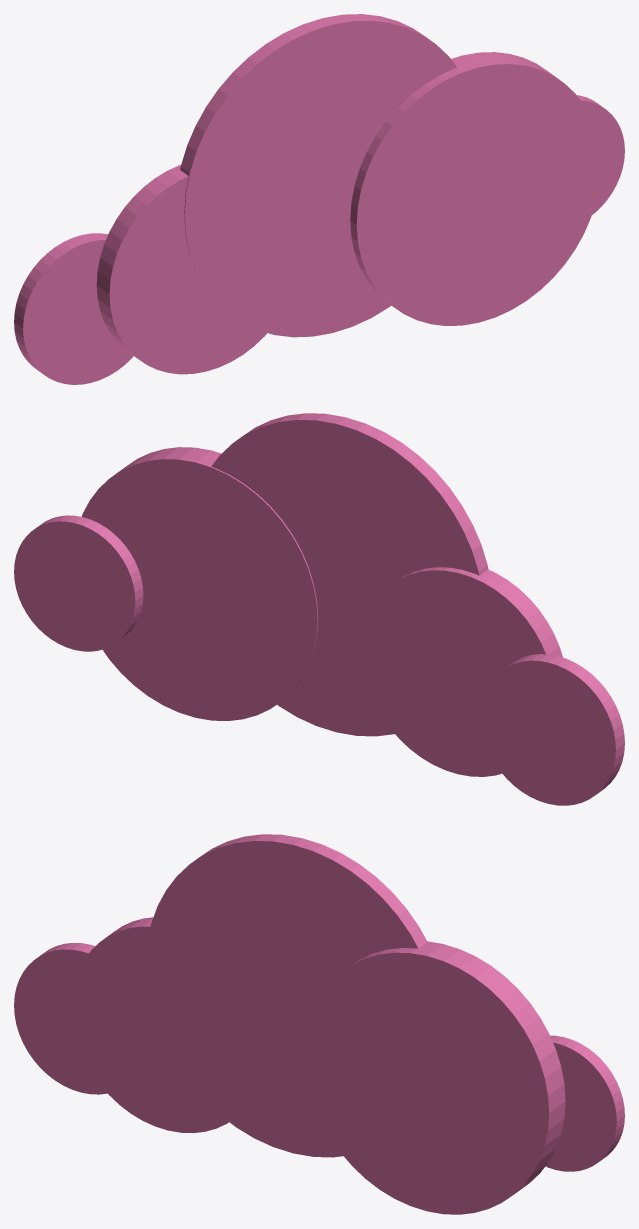
File: 012_Shadow_Cloud_01.fbx
3 renders of one model, top to bottom at view 1: azimuth 30°, elevation 25°; view 2: azimuth 150°, elevation 25°; view 3: azimuth 330°, elevation 25°, orthographic.
Parts seen in each view (by area): view 1: circle.046, circle.055, circle.056, circle.079, circle.078; view 2: circle.055, circle.046, circle.056, circle.079, circle.078; view 3: circle.055, circle.046, circle.056, circle.079, circle.078.
Boxes of the visible parts, <box> form: circle.046: <box>180,14,456,337</box>; circle.055: <box>350,52,600,325</box>; circle.056: <box>96,164,266,374</box>; circle.079: <box>14,233,133,384</box>; circle.078: <box>577,95,624,214</box>; circle.055: <box>81,447,318,720</box>; circle.046: <box>211,413,488,736</box>; circle.056: <box>362,567,562,776</box>; circle.079: <box>480,654,624,805</box>; circle.078: <box>14,515,143,651</box>; circle.055: <box>305,941,565,1214</box>; circle.046: <box>146,834,427,1157</box>; circle.056: <box>71,917,228,1133</box>; circle.079: <box>14,943,107,1094</box>; circle.078: <box>545,1035,624,1171</box>.
Bounding box in the file's own units: 220 × 114 × 19.2.
